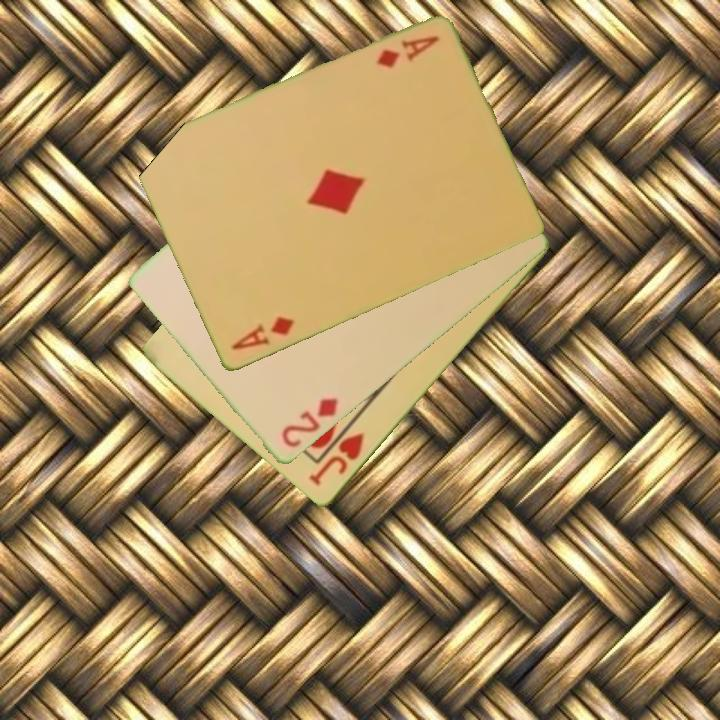2d: (278, 394, 341, 452)
Ad: (227, 313, 297, 354), (373, 32, 442, 72)
Jh: (305, 429, 367, 490)
